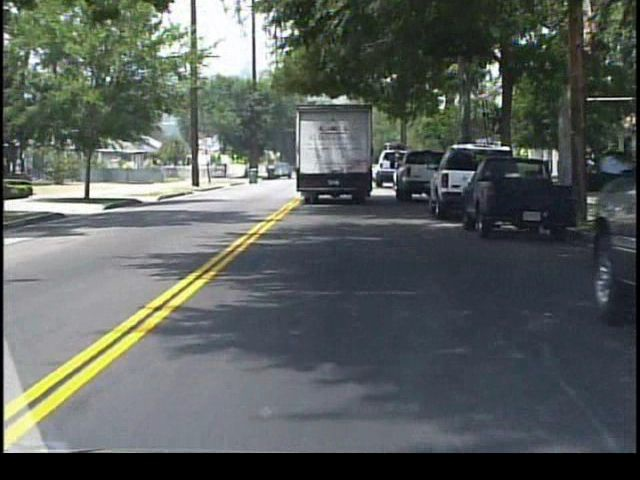person: (223, 163, 229, 181)
